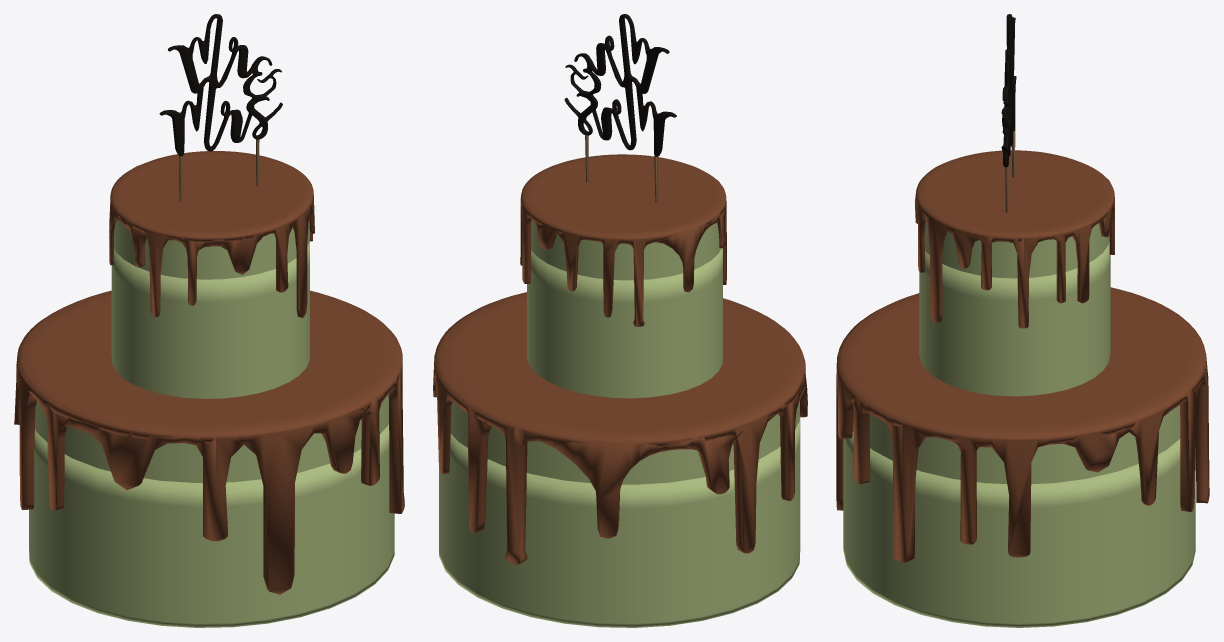
File: 2-tier-pistage-ganache-mrms.glb
3 renders of one model, left to right at view 1: azimuth 30°, elevation 25°; view 2: azimuth 150°, elevation 25°; view 3: azimuth 270°, elevation 25°, orthographic.
Parts seen in each view (by area): view 1: Cylinder.023, tHE ICING.004, Cylinder.013, tHE ICING.003, mrms; view 2: Cylinder.023, tHE ICING.004, Cylinder.013, tHE ICING.003, mrms; view 3: Cylinder.023, tHE ICING.004, Cylinder.013, tHE ICING.003, mrms.
Part boxes in pixels (box(x1,y1,x2,y2)): Cylinder.023: box(29, 394, 394, 627); tHE ICING.004: box(14, 290, 404, 594); Cylinder.013: box(111, 218, 309, 398); tHE ICING.003: box(109, 151, 314, 317); mrms: box(159, 14, 282, 201); Cylinder.023: box(439, 401, 800, 627); tHE ICING.004: box(433, 292, 807, 564); Cylinder.013: box(527, 220, 722, 398); tHE ICING.003: box(520, 154, 726, 326); mrms: box(564, 14, 676, 202); Cylinder.023: box(843, 405, 1195, 627); tHE ICING.004: box(836, 287, 1209, 562); Cylinder.013: box(919, 221, 1110, 396); tHE ICING.003: box(915, 150, 1114, 328); mrms: box(1001, 14, 1016, 212).
Size of the model in its own units: 3.53 by 5.48 by 3.46.
